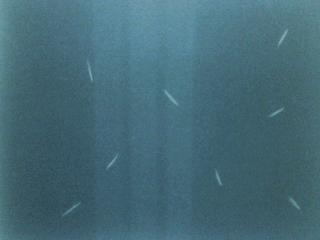scratch: (79, 53, 102, 86), (272, 23, 294, 51), (60, 197, 84, 219), (160, 87, 183, 108), (286, 191, 305, 212), (265, 102, 285, 119), (104, 150, 120, 171), (212, 166, 223, 188)
